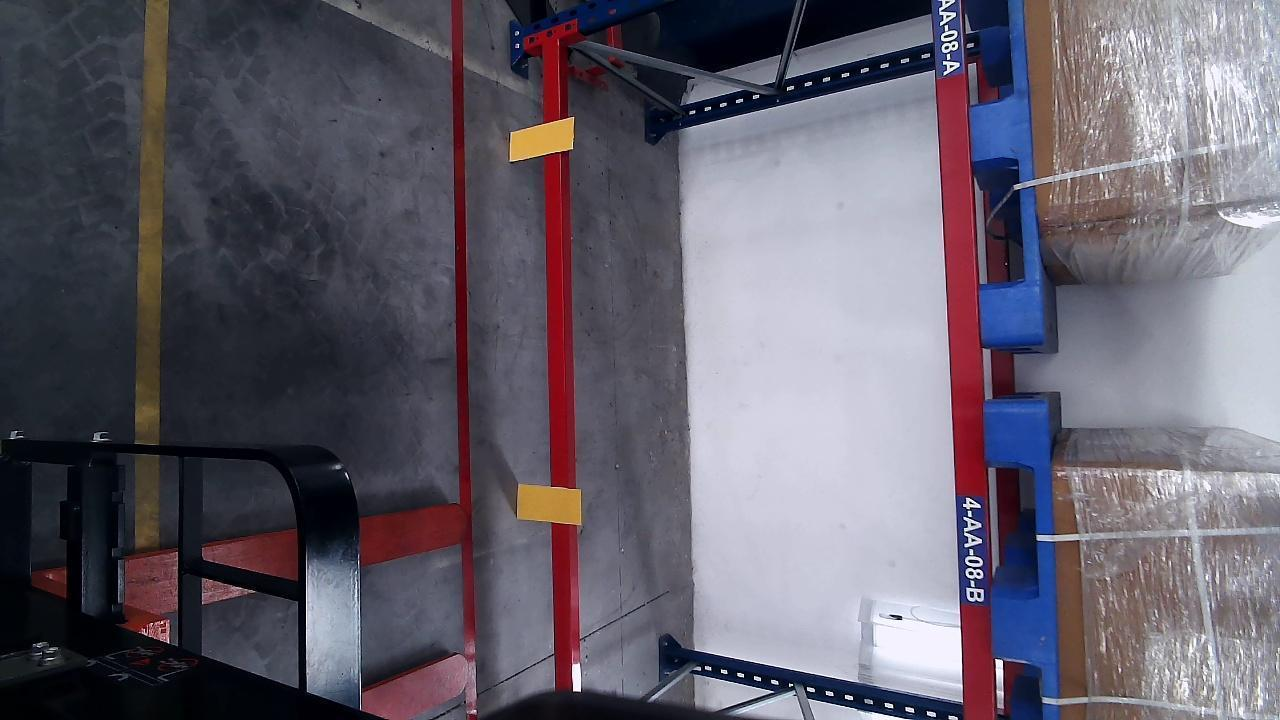red_line: (447, 2, 480, 720)
yellow_line: (134, 1, 170, 447)
